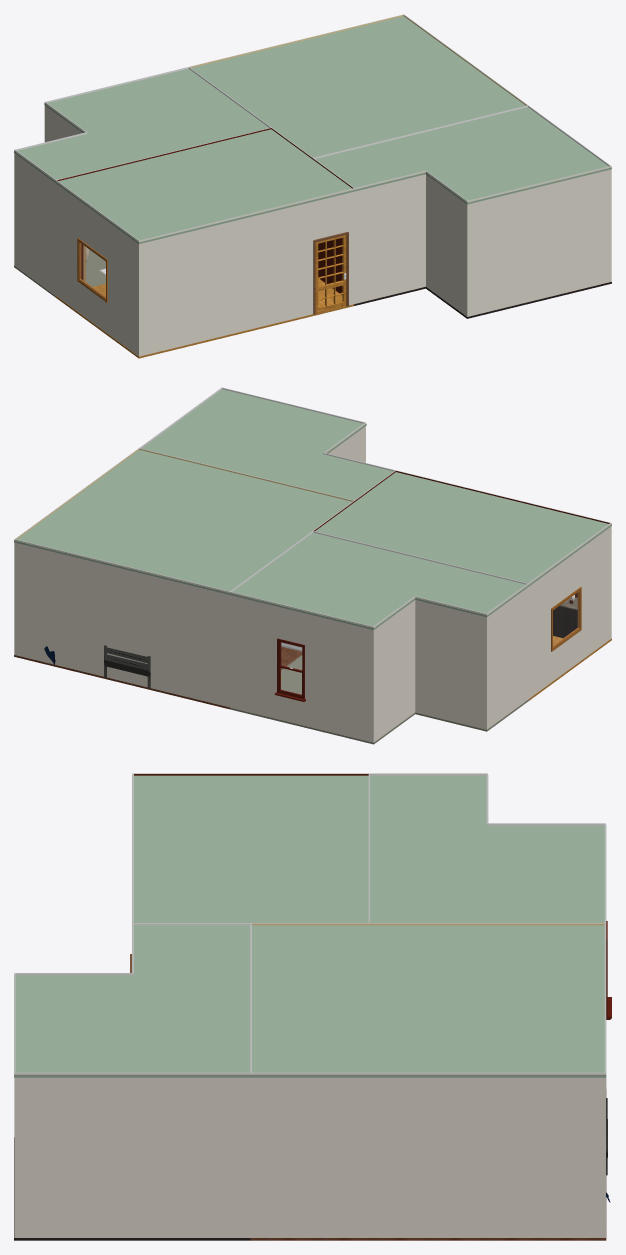
File: ProcTHOR-Train-48.glb
3 views of the same model, one above another, from view 1: azimuth 30°, elevation 25°; view 2: azimuth 150°, elevation 25°; view 3: azimuth 270°, elevation 25° (orthographic). The views are drawn at different scales.
Parts seen in each view (by area): view 1: Ceiling#room|4|c, WallInside#wall|exterior|6.39|8.51|12.77|8.51, Ceiling#room|6|c, WallInside#wall|exterior|0.00|10.64|4.26|10.64, Ceiling#room|5|c, Ceiling#room|7|c, WallInside#wall|exterior|4.26|8.51|6.39|8.51, WallInside#wall|exterior|12.77|4.26|12.77|8.51, WallInside#wall|exterior|12.77|2.13|12.77|4.26, WallInside#wall|exterior|4.26|8.51|4.26|10.64, Doorway_5, Floor#room|6|f (+6 smaller); view 2: Ceiling#room|4|c, WallInside#wall|exterior|0.00|0.00|6.39|0.00, Ceiling#room|6|c, WallInside#wall|exterior|6.39|0.00|10.64|0.00, Ceiling#room|7|c, Ceiling#room|5|c, WallInside#wall|exterior|12.77|4.26|12.77|8.51, WallInside#wall|exterior|10.64|2.13|12.77|2.13, WallInside#wall|exterior|10.64|0.00|10.64|2.13, WallInside#wall|exterior|12.77|2.13|12.77|4.26, Floor#room|7|f, Bed_7 (+5 smaller); view 3: WallInside#wall|exterior|0.00|0.00|0.00|6.39, Ceiling#room|4|c, WallInside#wall|exterior|0.00|6.39|0.00|10.64, Ceiling#room|6|c, Ceiling#room|5|c, Ceiling#room|7|c, Floor#room|4|f, Floor#room|5|f, WallInside#wall|4|6.39|0.00|6.39|4.26, WallInside#wall|6|12.77|4.26|12.77|8.51.
Part boxes in pixels (box(x1,y1,x2,y2)): Ceiling#room|4|c: box(189, 16, 526, 157); WallInside#wall|exterior|6.39|8.51|12.77|8.51: box(139, 188, 354, 356); Ceiling#room|6|c: box(55, 129, 353, 243); WallInside#wall|exterior|0.00|10.64|4.26|10.64: box(467, 166, 611, 316); Ceiling#room|5|c: box(312, 107, 611, 204); Ceiling#room|7|c: box(14, 68, 269, 182); WallInside#wall|exterior|4.26|8.51|6.39|8.51: box(354, 170, 426, 303); WallInside#wall|exterior|12.77|4.26|12.77|8.51: box(56, 180, 138, 356); WallInside#wall|exterior|12.77|2.13|12.77|4.26: box(14, 150, 56, 295); WallInside#wall|exterior|4.26|8.51|4.26|10.64: box(426, 171, 467, 316); Doorway_5: box(313, 232, 348, 314); Floor#room|6|f: box(55, 279, 354, 358); Ceiling#room|4|c: box(14, 450, 354, 594); WallInside#wall|exterior|0.00|0.00|6.39|0.00: box(14, 539, 230, 707); Ceiling#room|6|c: box(315, 472, 611, 586); WallInside#wall|exterior|6.39|0.00|10.64|0.00: box(229, 592, 373, 742); Ceiling#room|7|c: box(230, 532, 529, 629); Ceiling#room|5|c: box(141, 389, 395, 501); WallInside#wall|exterior|12.77|4.26|12.77|8.51: box(528, 523, 611, 698); WallInside#wall|exterior|10.64|2.13|12.77|2.13: box(415, 596, 486, 729); WallInside#wall|exterior|10.64|0.00|10.64|2.13: box(373, 596, 415, 742); WallInside#wall|exterior|12.77|2.13|12.77|4.26: box(487, 584, 528, 729); Floor#room|7|f: box(229, 655, 529, 744); Bed_7: box(104, 645, 150, 688); WallInside#wall|exterior|0.00|0.00|0.00|6.39: box(250, 1073, 605, 1237); Ceiling#room|4|c: box(250, 925, 606, 1077); WallInside#wall|exterior|0.00|6.39|0.00|10.64: box(14, 1073, 251, 1237); Ceiling#room|6|c: box(132, 775, 370, 924); Ceiling#room|5|c: box(14, 925, 252, 1077); Ceiling#room|7|c: box(368, 775, 606, 924); Floor#room|4|f: box(250, 1089, 606, 1240); Floor#room|5|f: box(14, 1137, 251, 1240); WallInside#wall|4|6.39|0.00|6.39|4.26: box(369, 923, 604, 925); WallInside#wall|6|12.77|4.26|12.77|8.51: box(134, 773, 369, 775).
Size of what is drawn, in the model's own units: 12.83 by 3.34 by 10.78.
Materials: 313 (118 with a texture image).
